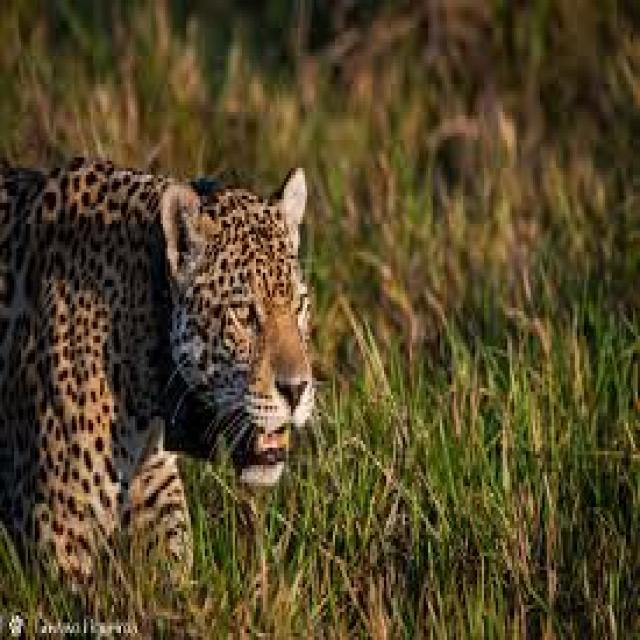Jaguar: (0, 154, 317, 594)
